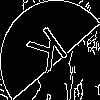K: (25, 25, 75, 82)
